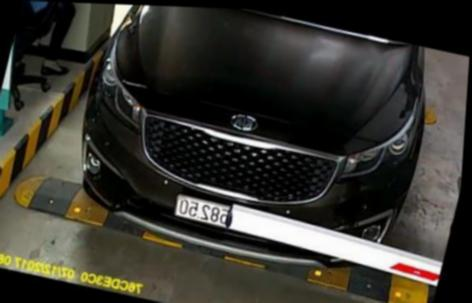License_Plate: (164, 185, 253, 234)
